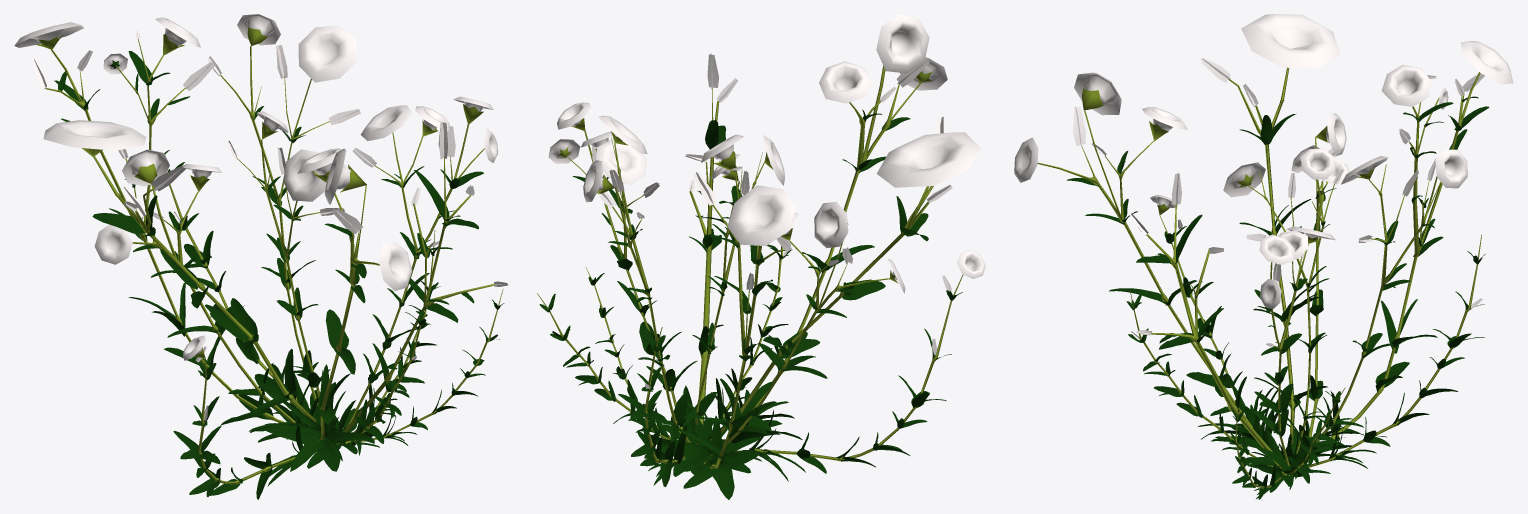
The model's file is dengzhanhua.fbx.
3 views of the same model, side by side, from view 1: azimuth 30°, elevation 25°; view 2: azimuth 150°, elevation 25°; view 3: azimuth 270°, elevation 25° (orthographic). The views are drawn at different scales.
Visible parts, largest first — view 1: Flower_Cerastium-arvense_A_spring-summer; view 2: Flower_Cerastium-arvense_A_spring-summer; view 3: Flower_Cerastium-arvense_A_spring-summer.
Boxes of the visible parts, x1=… form: Flower_Cerastium-arvense_A_spring-summer: x1=14, y1=14, x2=507, y2=499; Flower_Cerastium-arvense_A_spring-summer: x1=537, y1=14, x2=985, y2=499; Flower_Cerastium-arvense_A_spring-summer: x1=1014, y1=14, x2=1513, y2=499.
Bounding box in the file's own units: 104 × 93.47 × 113.
